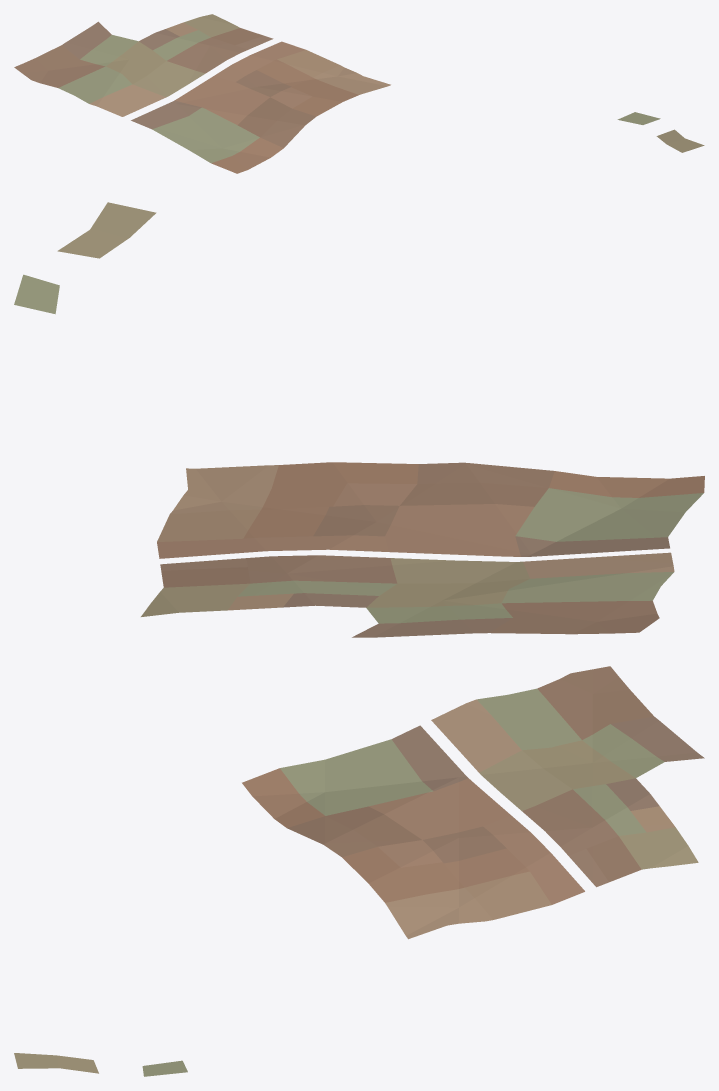
Rendered from farm_-27_-30_soil.glb.
3 renders of one model, top to bottom at view 1: azimuth 30°, elevation 25°; view 2: azimuth 150°, elevation 25°; view 3: azimuth 270°, elevation 25°, orthographic. The views are drawn at different scales.
Visible parts, largest first — view 1: geometry_0; view 2: geometry_0; view 3: geometry_0.
Part boxes in pixels (box(x1,y1,x2,y2)): geometry_0: box(14, 14, 704, 173); geometry_0: box(14, 202, 704, 637); geometry_0: box(14, 666, 704, 1076).
Bounding box in the file's own units: 479 × 50.94 × 413.
